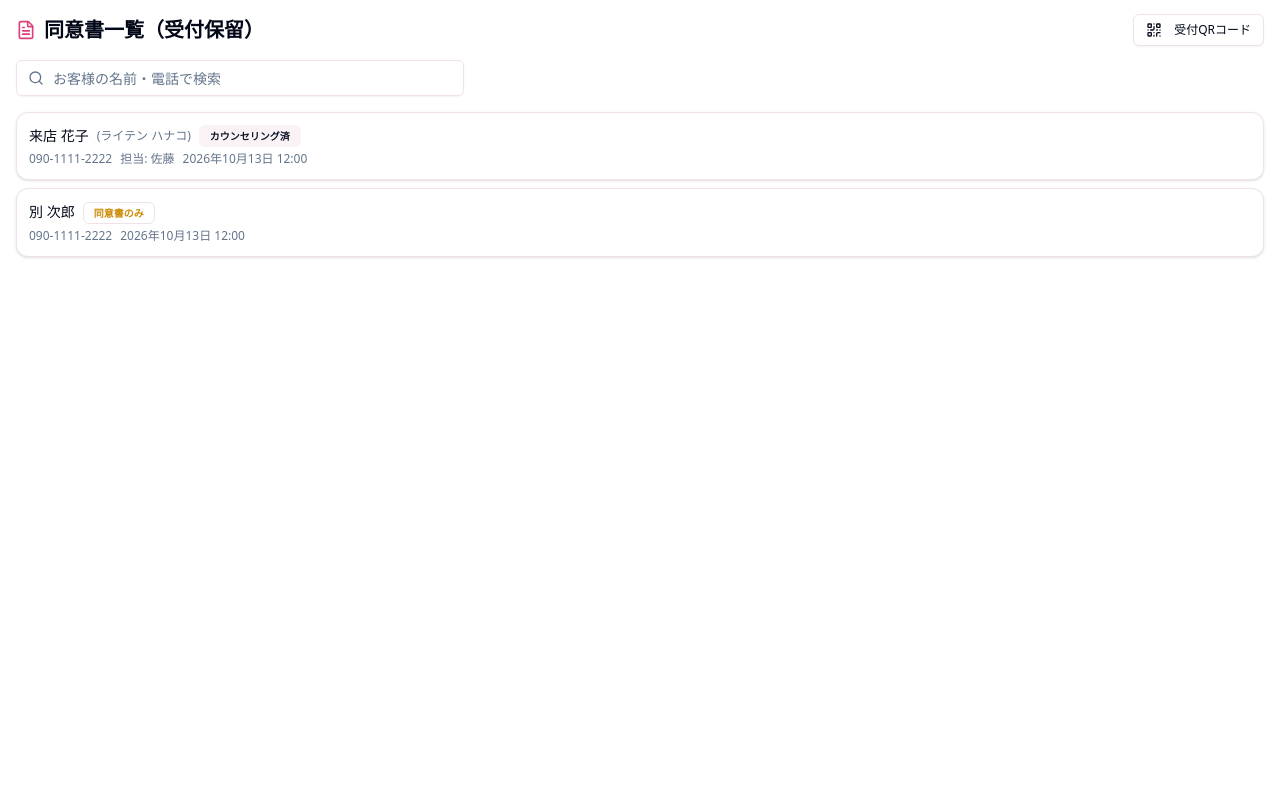
Test case: Consents (同意書一覧・受付保留) › lists pending intakes and shows the consent and counselling in the detail dialog
Expected: the heading "同意書一覧（受付保留）" is shown, [44,16,264,44]
Expected: the text "(ライテン ハナコ)" is shown, [97,128,191,144]
Click the text "来店 花子". click: {"x": 59, "y": 136}
box: [29,125,89,147]
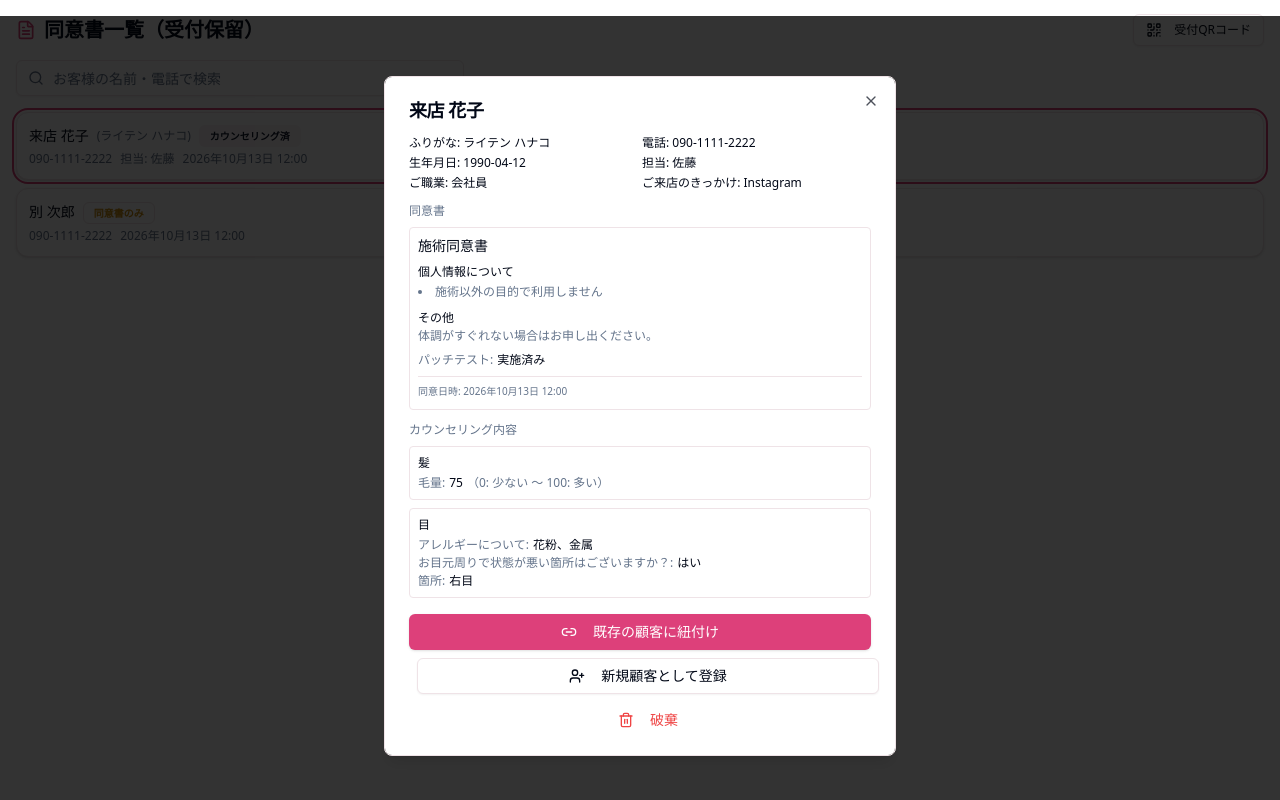
Result: the text "ふりがな: ライテン ハナコ" is shown at [409,134,550,151]
Result: the text "電話: 090-1111-2222" is shown at [642,134,756,151]
Result: the text "生年月日: 1990-04-12" is shown at [409,154,526,171]
